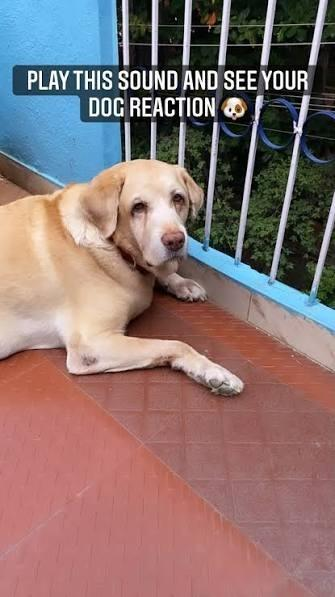adult_dog: (0, 158, 245, 397)
